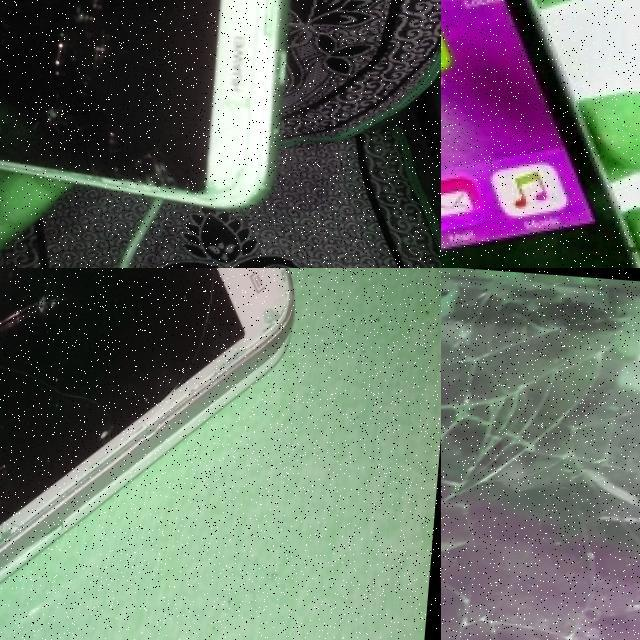screen crack: (441, 268, 640, 640), (0, 268, 77, 640), (0, 142, 266, 213), (161, 268, 235, 360), (246, 268, 301, 334), (93, 410, 124, 453)
